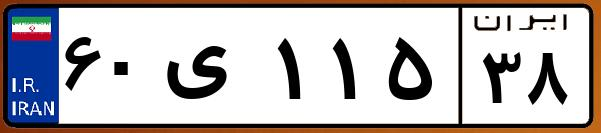0: (110, 28, 158, 98)
1: (270, 28, 330, 110), (330, 28, 385, 110)
3: (475, 38, 525, 113)
5: (385, 28, 445, 110)
6: (57, 26, 110, 100)
8: (525, 38, 570, 115)
ی: (158, 20, 270, 120)
